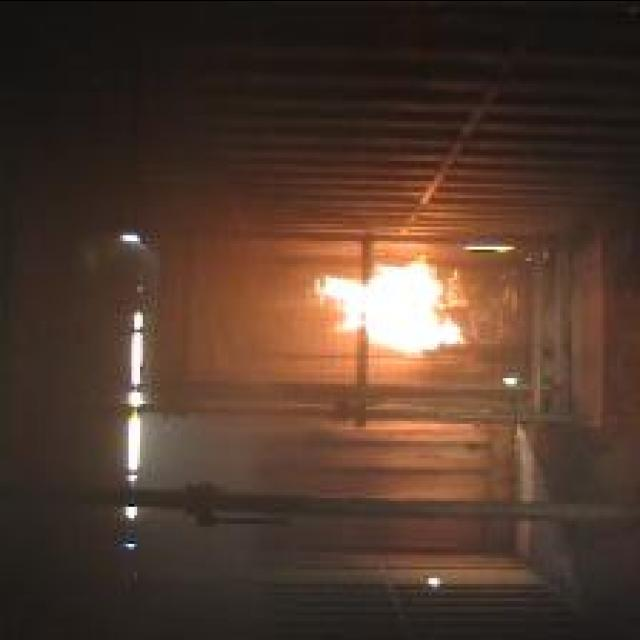Fire: (308, 256, 468, 353)
